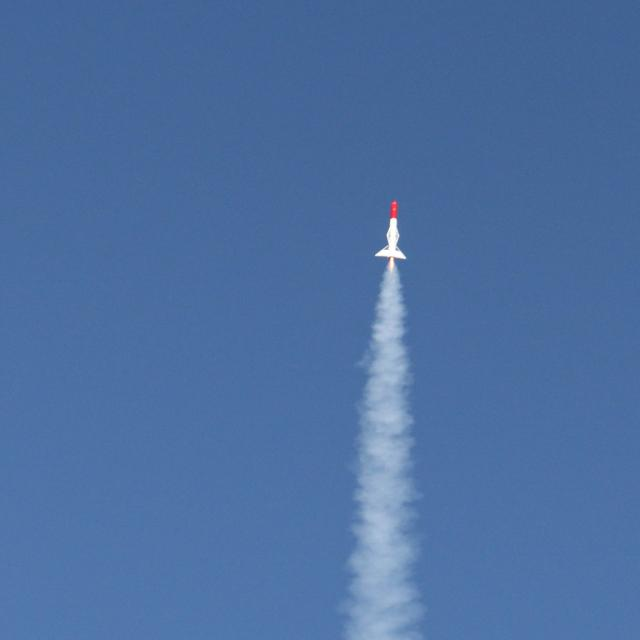Rocket: (375, 199, 408, 261)
